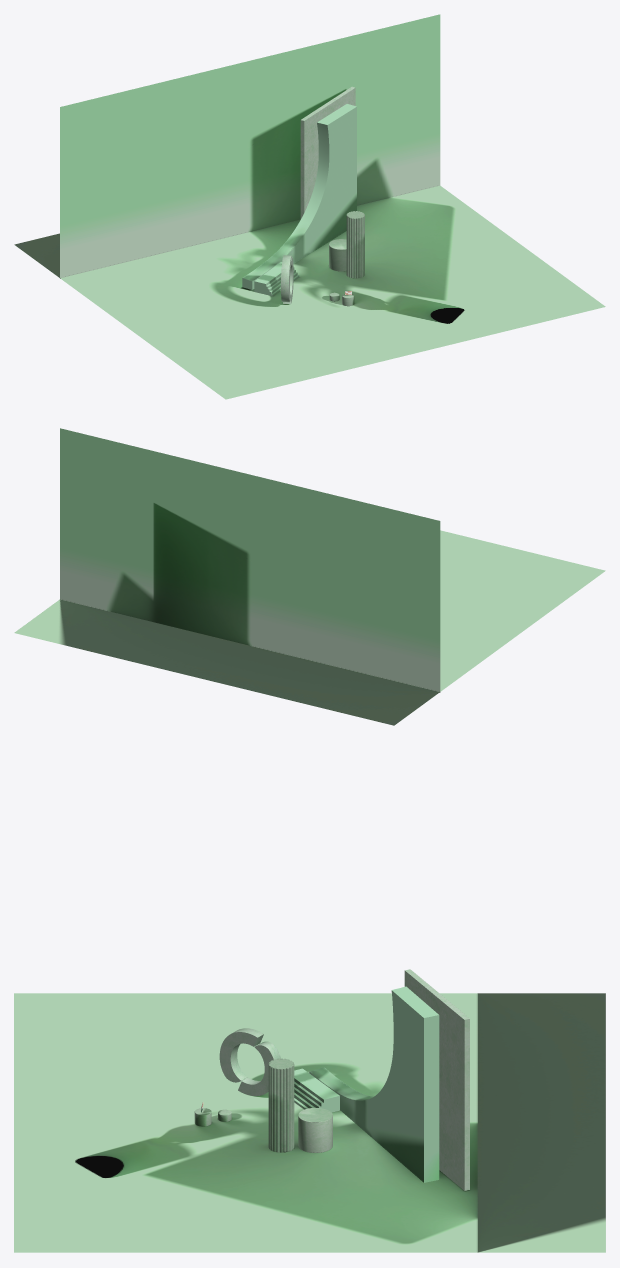
File: otsuka_main_export.glb
3 renders of one model, top to bottom at view 1: azimuth 30°, elevation 25°; view 2: azimuth 150°, elevation 25°; view 3: azimuth 270°, elevation 25°, orthographic. The views are drawn at different scales.
Parts seen in each view (by area): view 1: wall_back, ground, Cube.001, wall_right, 円, step, logo, pillar_02.001; view 2: wall_back, ground; view 3: ground, Cube.001, wall_right, 円, logo, pillar_02.001, step.
Boxes of the visible parts, x1=… form: wall_back: x1=60, y1=14, x2=440, y2=278; ground: x1=14, y1=185, x2=605, y2=399; Cube.001: x1=242, y1=104, x2=356, y2=289; wall_right: x1=300, y1=86, x2=355, y2=219; 円: x1=346, y1=211, x2=364, y2=278; step: x1=254, y1=262, x2=299, y2=296; logo: x1=281, y1=255, x2=293, y2=304; pillar_02.001: x1=329, y1=239, x2=346, y2=271; wall_back: x1=60, y1=428, x2=440, y2=692; ground: x1=14, y1=530, x2=605, y2=725; ground: x1=14, y1=993, x2=605, y2=1252; Cube.001: x1=309, y1=986, x2=439, y2=1182; wall_right: x1=404, y1=969, x2=469, y2=1190; 円: x1=268, y1=1058, x2=294, y2=1152; logo: x1=219, y1=1028, x2=280, y2=1096; pillar_02.001: x1=298, y1=1107, x2=332, y2=1152; step: x1=294, y1=1068, x2=339, y2=1112.
Size of the model in its own units: 16.47 by 7.12 by 15.89.
12 materials, 12 textured.
